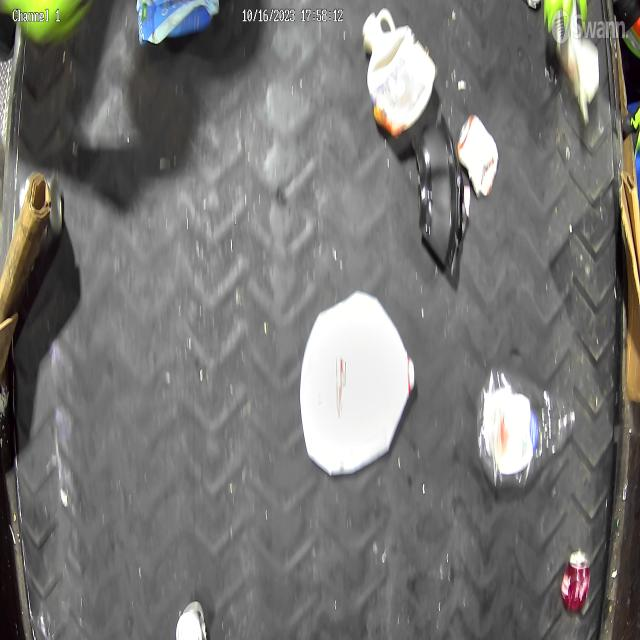can: (457, 115, 499, 197), (18, 176, 62, 244), (560, 550, 590, 614), (175, 600, 207, 640)
milk_jug: (300, 290, 414, 477), (362, 7, 436, 138)
non_white_jug: (136, 0, 219, 46)
